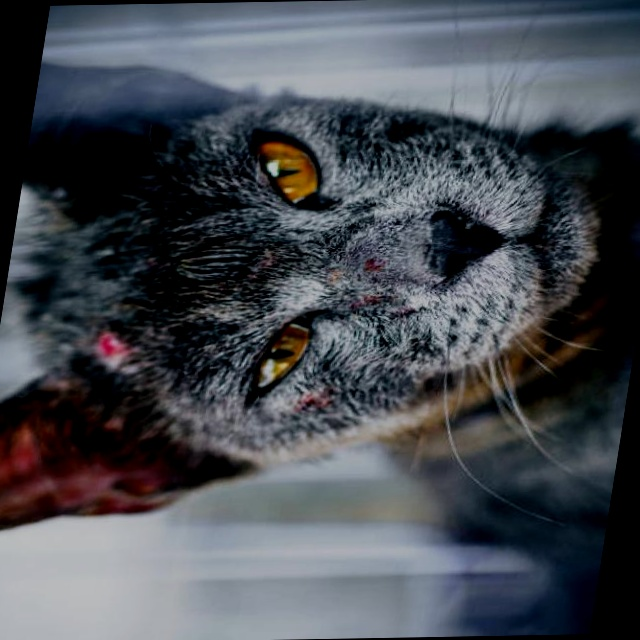ringworm: (351, 254, 391, 308), (98, 328, 128, 359), (298, 391, 334, 406)
